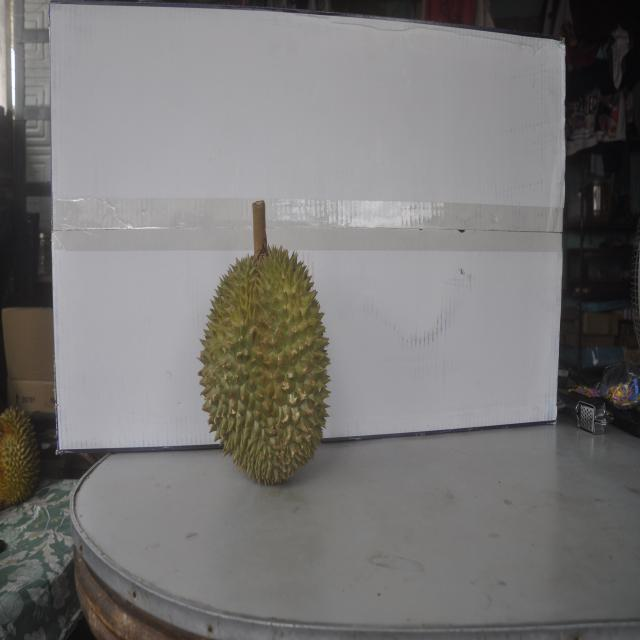mature: (196, 227, 332, 485), (0, 404, 40, 510)
